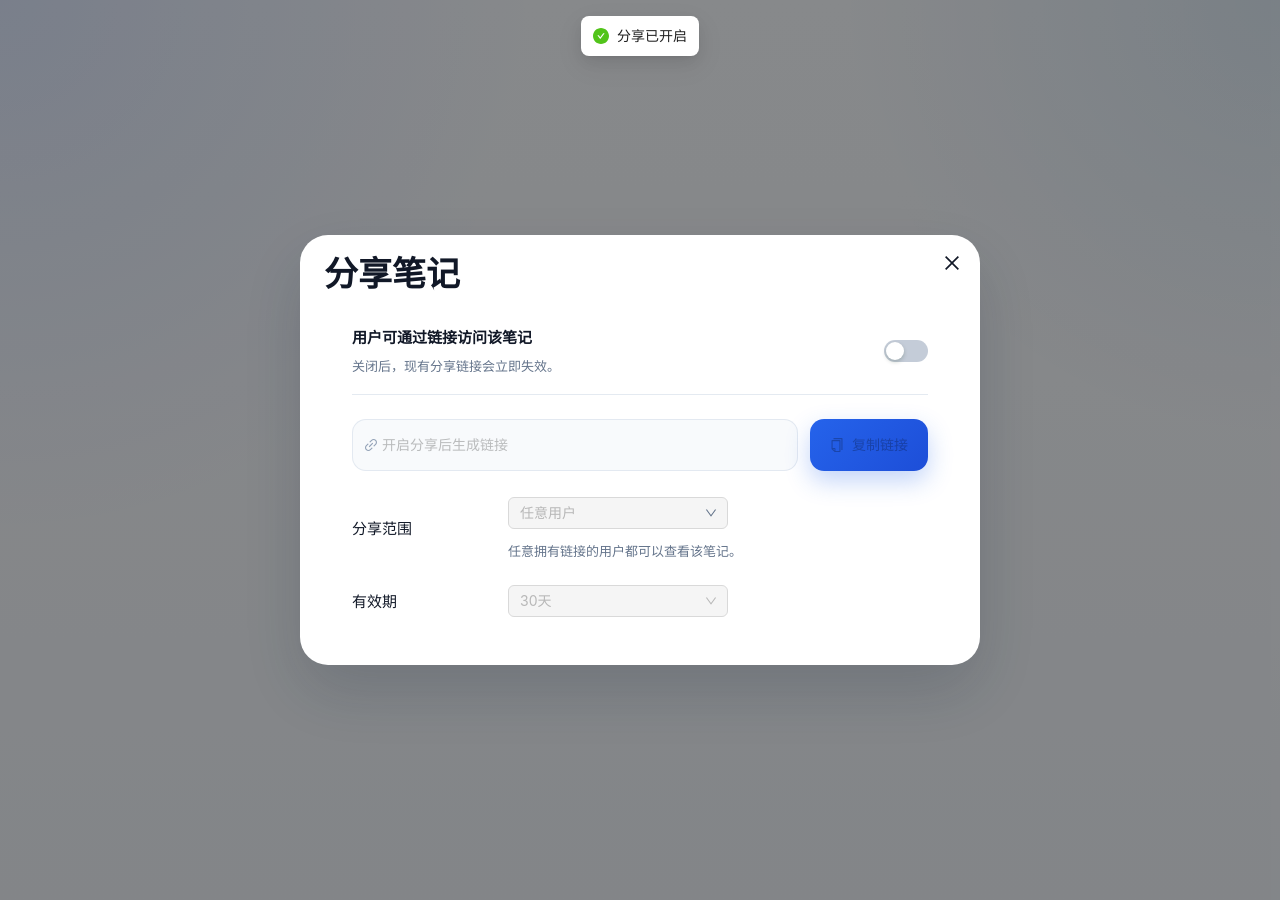
Test: ShareDialog › should handle share creation error gracefully
This screenshot has width=1280, height=900.
Click the switch: {"x": 906, "y": 351} [884,340,928,362]
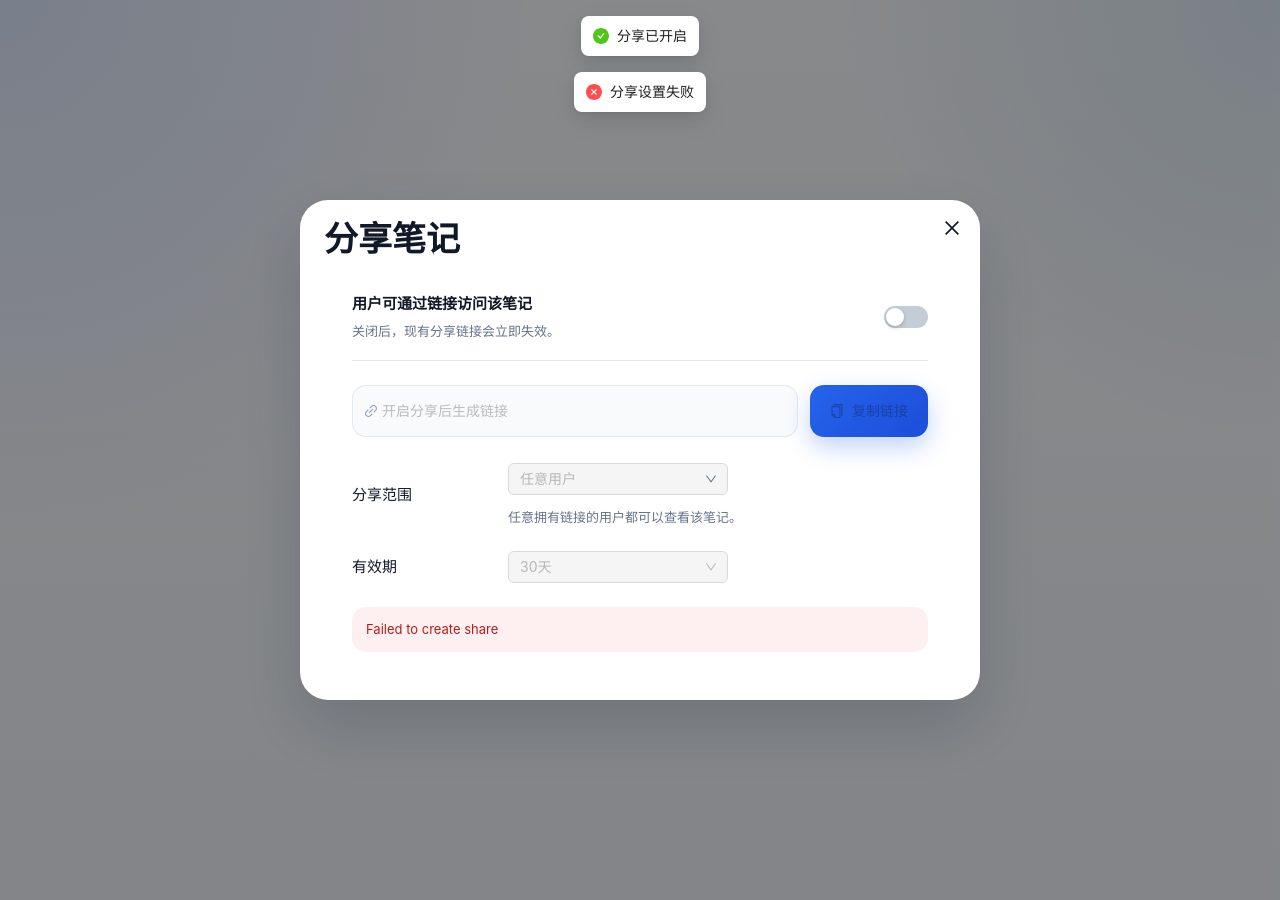
Now the message reads "Failed to create share", box [366,621,498,637]
